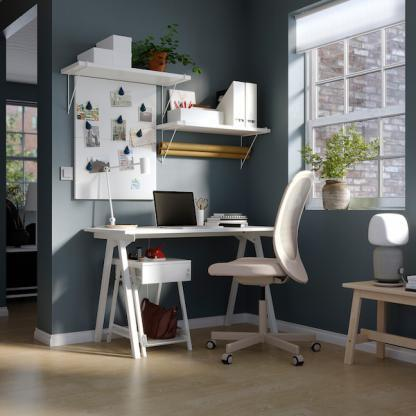chair: (203, 170, 323, 371), (112, 249, 195, 359)
door: (0, 77, 35, 305)
light: (93, 154, 149, 225)
table: (74, 214, 285, 365), (343, 275, 416, 376)
